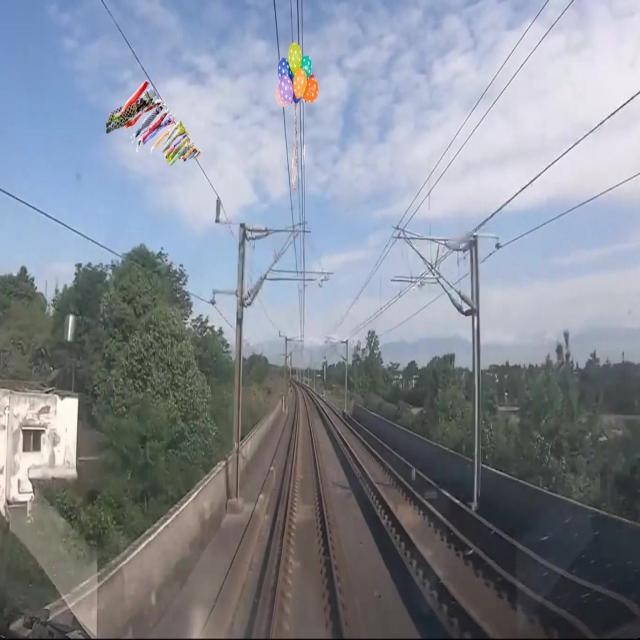balloon: (274, 38, 318, 102)
floating object: (104, 81, 204, 176)
